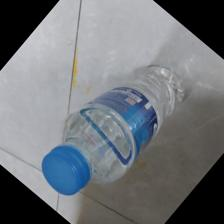Lavie: (39, 62, 184, 198)
